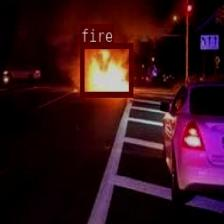fire: (80, 43, 132, 95)
